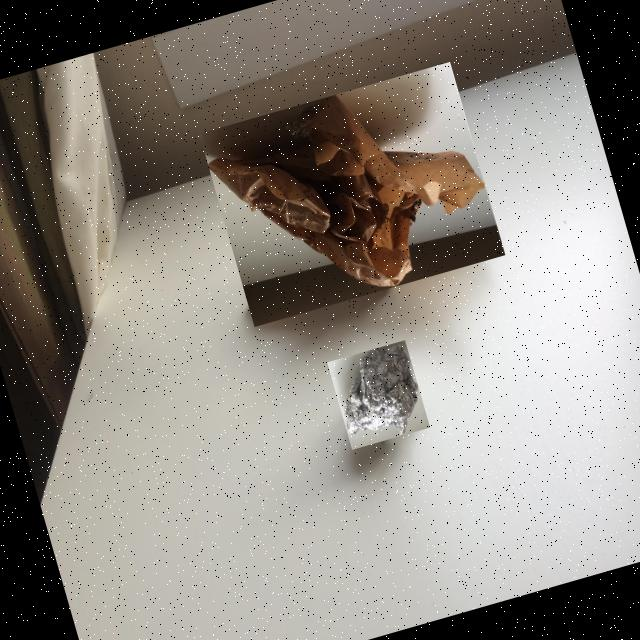Aluminium foil: (345, 344, 419, 436), (329, 268, 372, 292)
Paper bag: (209, 94, 485, 286)
